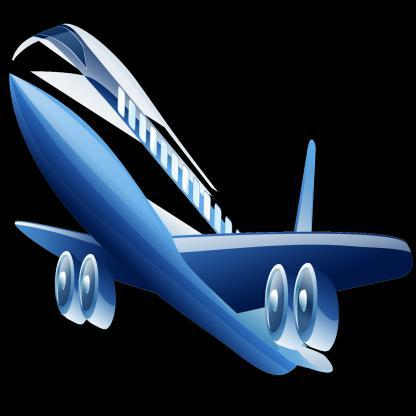CIV_Plane: (6, 11, 414, 384)
